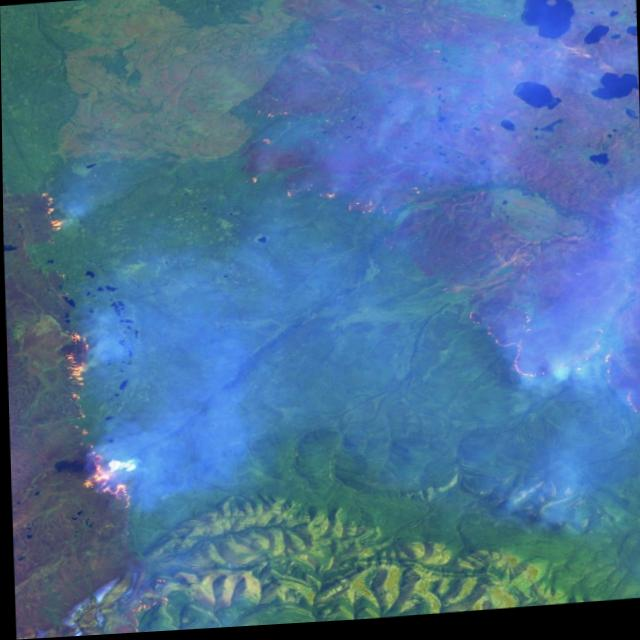fire: (23, 179, 165, 533), (447, 279, 640, 447), (227, 90, 416, 244)
